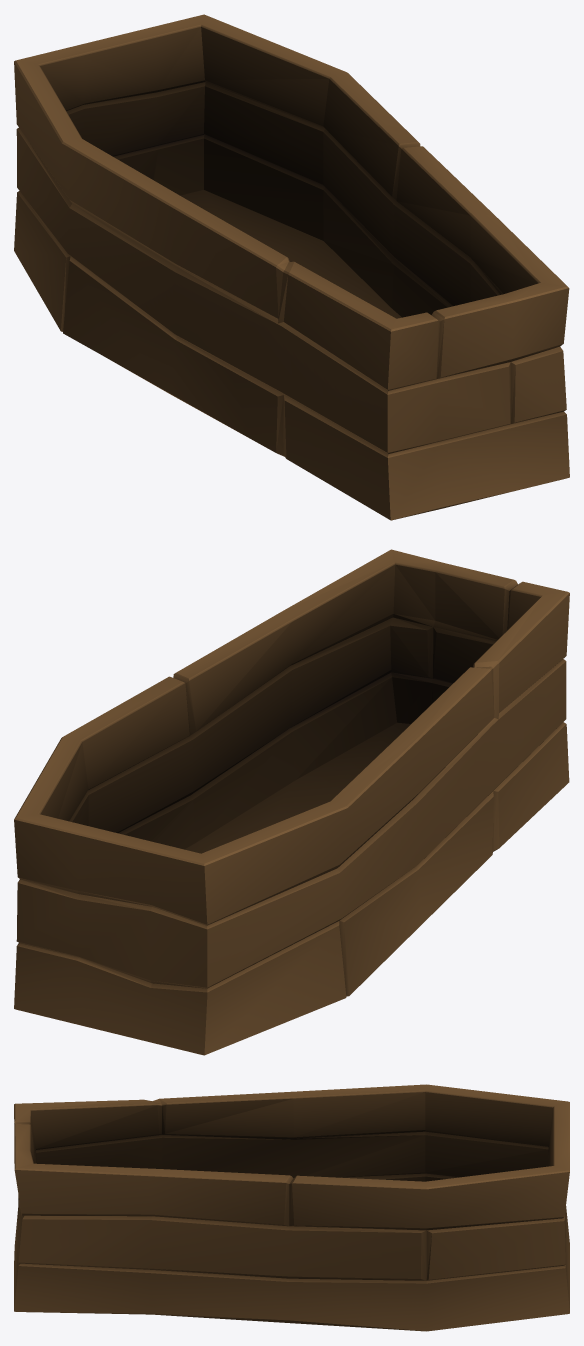
Rendered from obj_coffin_A.FBX.
3 renders of one model, top to bottom at view 1: azimuth 30°, elevation 25°; view 2: azimuth 150°, elevation 25°; view 3: azimuth 270°, elevation 25°, orthographic. The views are drawn at different scales.
Visible parts, largest first — view 1: obj_coffin_A; view 2: obj_coffin_A; view 3: obj_coffin_A.
Boxes of the visible parts, x1,y1,x2,y2 form: obj_coffin_A: (14, 14, 569, 520); obj_coffin_A: (14, 549, 569, 1055); obj_coffin_A: (14, 1084, 569, 1331).
Size of the model in its own units: 1.41 by 0.9072 by 3.17.
